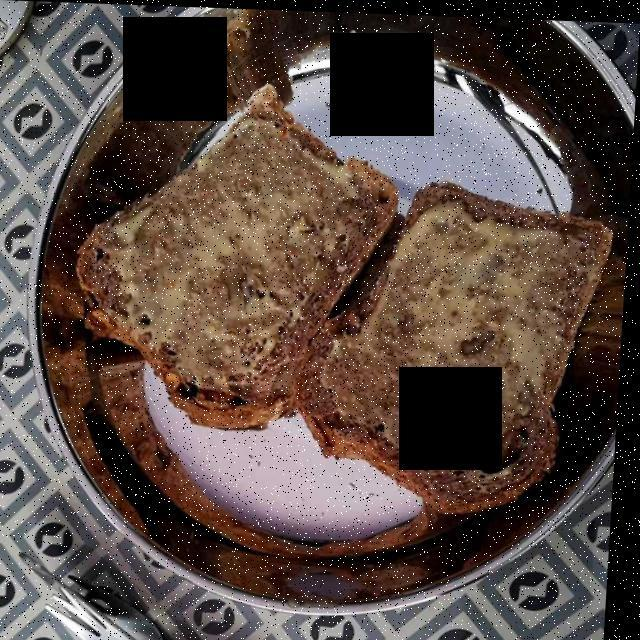bread: (85, 99, 558, 489)
butter: (99, 130, 621, 506)
